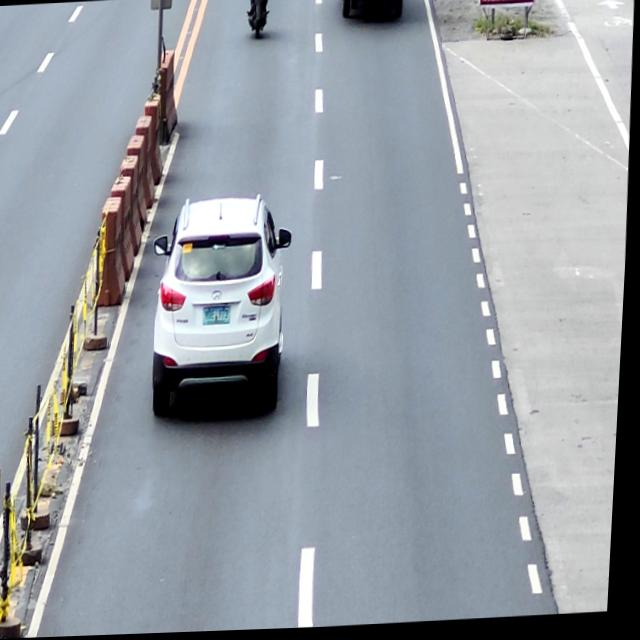Car: (147, 194, 300, 422)
Jeep: (337, 0, 408, 25)
License-Plate: (204, 305, 235, 327)
Motorcycle: (245, 0, 272, 38)
